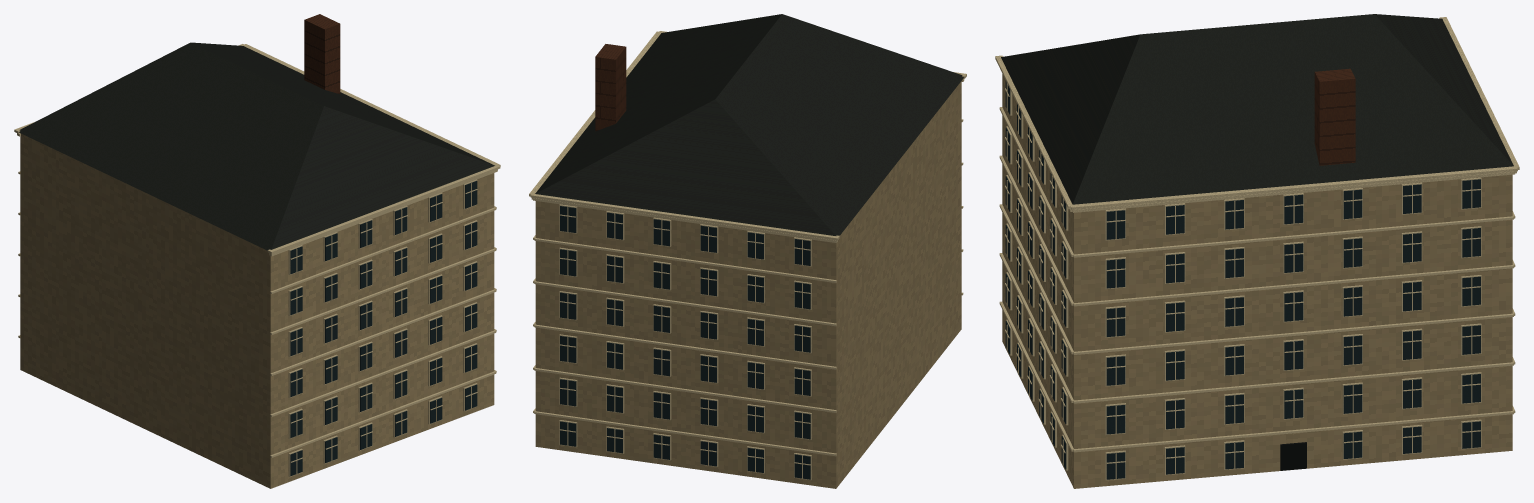
3 views of the same model, side by side, from view 1: azimuth 30°, elevation 25°; view 2: azimuth 150°, elevation 25°; view 3: azimuth 270°, elevation 25° (orthographic). The views are drawn at different scales.
Parts seen in each view (by area): view 1: amsterdamsche-bank-coolsingel-0, amsterdamsche-bank-coolsingel-1, amsterdamsche-bank-coolsingel-2, amsterdamsche-bank-coolsingel-3, amsterdamsche-bank-coolsingel-5; view 2: amsterdamsche-bank-coolsingel-0, amsterdamsche-bank-coolsingel-1, amsterdamsche-bank-coolsingel-2, amsterdamsche-bank-coolsingel-3, amsterdamsche-bank-coolsingel-5; view 3: amsterdamsche-bank-coolsingel-0, amsterdamsche-bank-coolsingel-1, amsterdamsche-bank-coolsingel-2, amsterdamsche-bank-coolsingel-3, amsterdamsche-bank-coolsingel-5, amsterdamsche-bank-coolsingel-4.
Boxes of the visible parts, box(x1,y1,x2,y2) form: amsterdamsche-bank-coolsingel-0: box(20, 133, 494, 488); amsterdamsche-bank-coolsingel-1: box(19, 42, 494, 250); amsterdamsche-bank-coolsingel-2: box(14, 44, 500, 476); amsterdamsche-bank-coolsingel-3: box(290, 181, 477, 476); amsterdamsche-bank-coolsingel-5: box(304, 14, 340, 93); amsterdamsche-bank-coolsingel-0: box(535, 81, 961, 488); amsterdamsche-bank-coolsingel-1: box(535, 14, 963, 235); amsterdamsche-bank-coolsingel-2: box(529, 31, 966, 480); amsterdamsche-bank-coolsingel-3: box(560, 206, 810, 479); amsterdamsche-bank-coolsingel-5: box(595, 44, 626, 131); amsterdamsche-bank-coolsingel-0: box(1002, 74, 1512, 488); amsterdamsche-bank-coolsingel-1: box(1001, 14, 1513, 204); amsterdamsche-bank-coolsingel-2: box(995, 17, 1519, 480); amsterdamsche-bank-coolsingel-3: box(1005, 80, 1480, 479); amsterdamsche-bank-coolsingel-5: box(1314, 68, 1355, 165); amsterdamsche-bank-coolsingel-4: box(1280, 442, 1306, 470).
Size of the model in its own units: 36.8 by 34 by 42.79.
6 materials, 6 textured.
